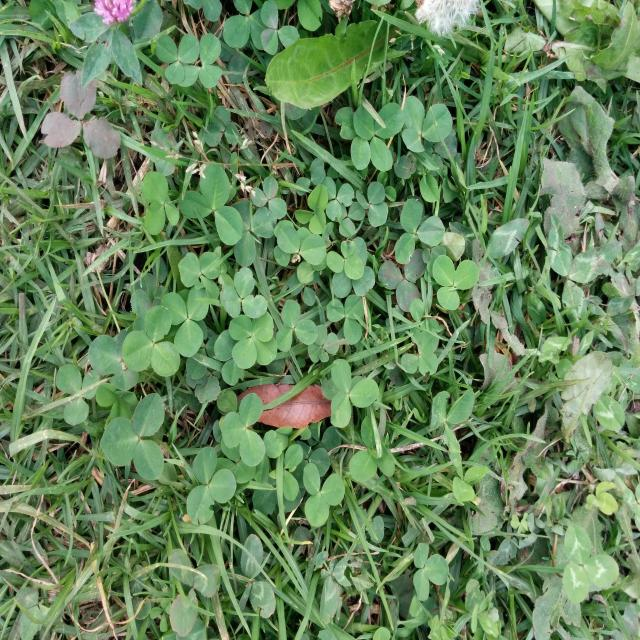Four Leaf Clover: (228, 310, 278, 369)
